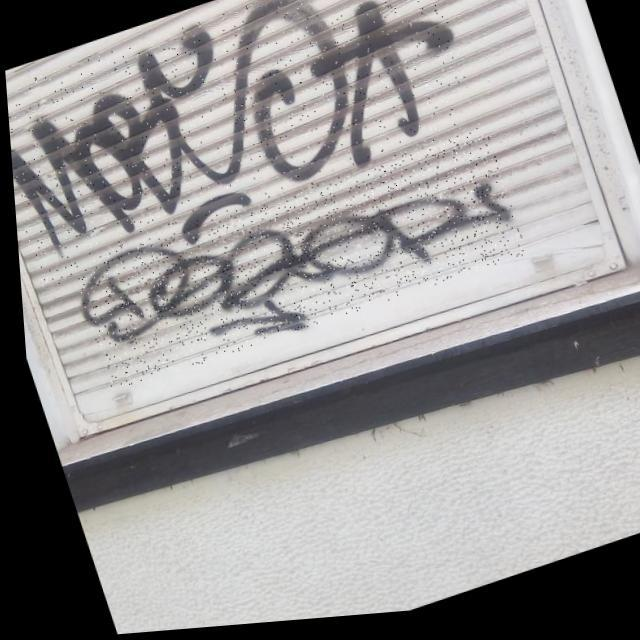-: (0, 0, 491, 295), (61, 135, 529, 396)
